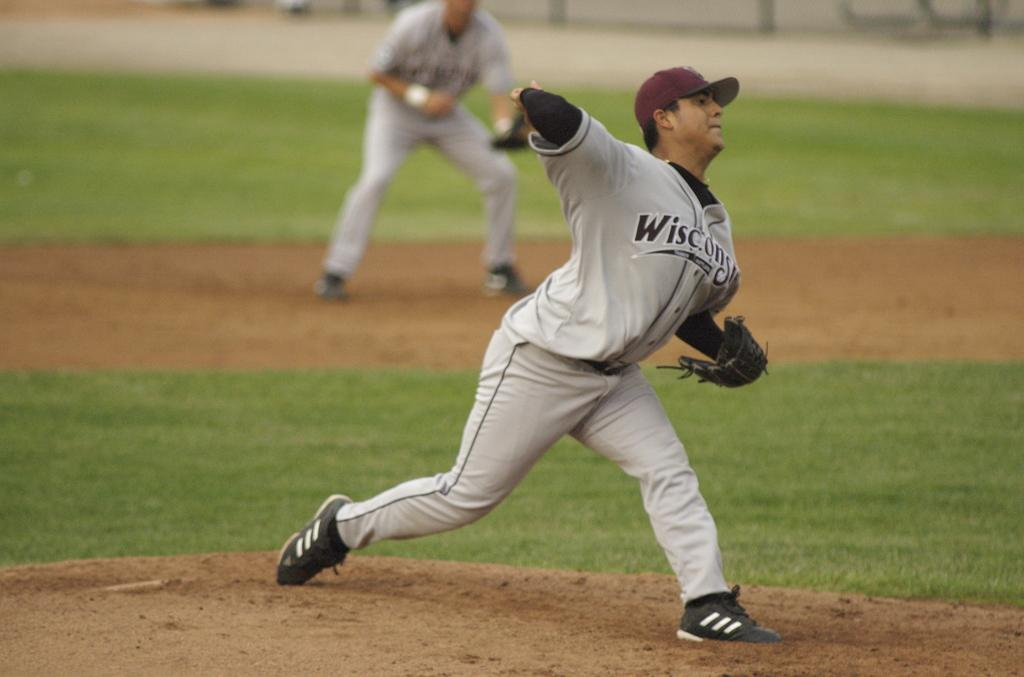Hat: (635, 62, 741, 132)
